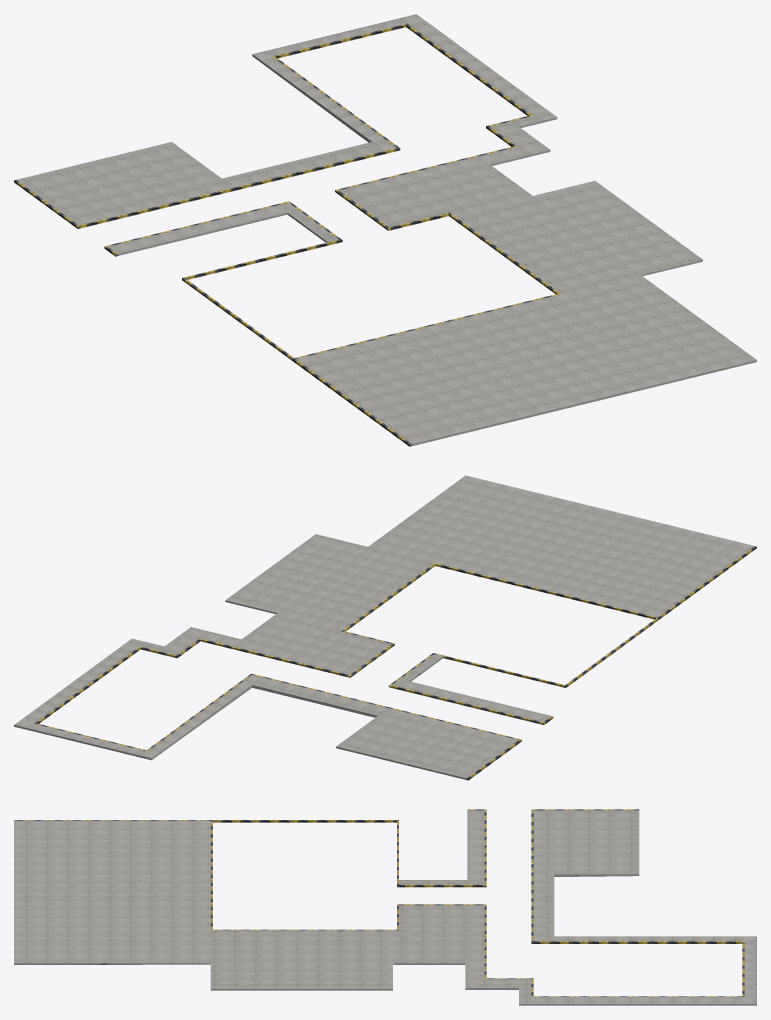
Rendered from Area2Foundation.fbx.
3 renders of one model, top to bottom at view 1: azimuth 30°, elevation 25°; view 2: azimuth 150°, elevation 25°; view 3: azimuth 270°, elevation 25°, orthographic. The views are drawn at different scales.
Visible parts, largest first — view 1: Area2Foundation; view 2: Area2Foundation; view 3: Area2Foundation.
Boxes of the visible parts, left/top/right/bottom form: Area2Foundation: left=14, top=14, right=756, bottom=446; Area2Foundation: left=14, top=475, right=756, bottom=780; Area2Foundation: left=14, top=809, right=756, bottom=1005.
Bounding box in the file's own units: 1114 × 7.51 × 1796.
